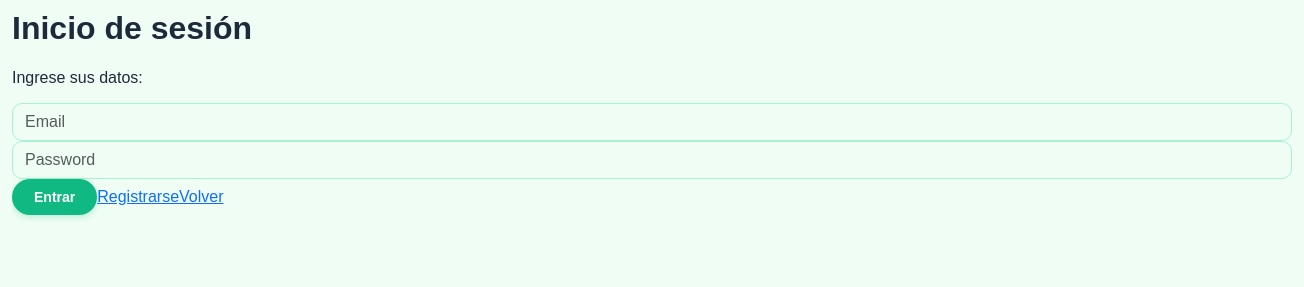
Test: FormularioLogin › con credenciales incorrectas muestra el mensaje de error
Type "otro@gmail.com" into the field with placeholder "Email".
click(652, 122); type("otro@gmail.com")  # box x1=12 y1=103 x2=1292 y2=141
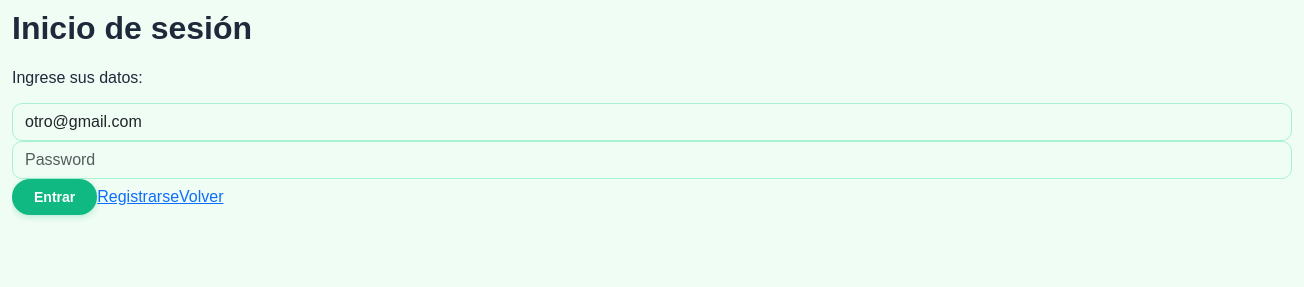
Type "mala" into the password field with placeholder "Password".
click(652, 160); type("mala")  # box x1=12 y1=141 x2=1292 y2=179
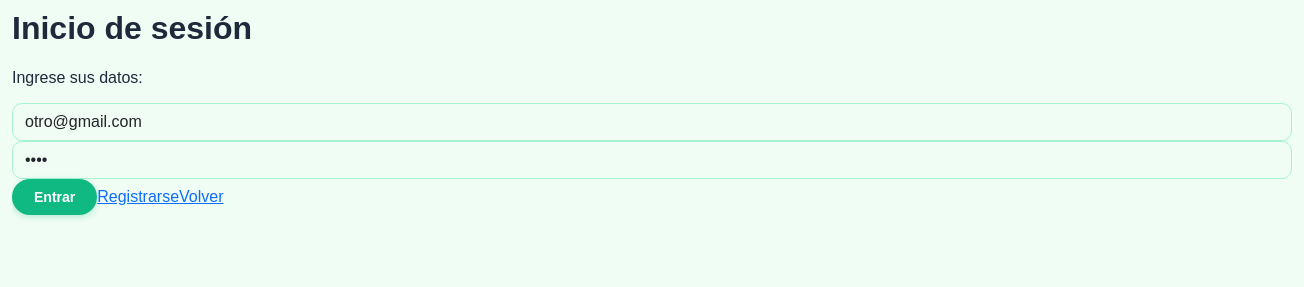
Click the button "Entrar".
click(55, 197)  # box x1=12 y1=179 x2=97 y2=215
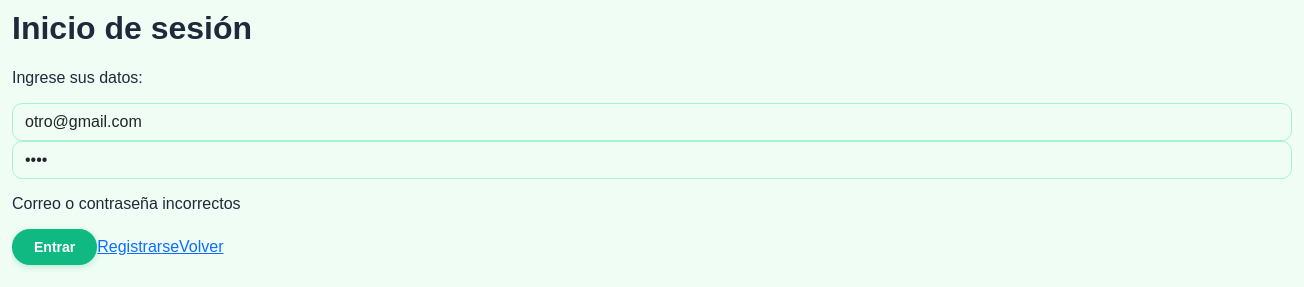
Result: the message reads "Correo o contraseña incorrectos" at x1=12 y1=195 x2=241 y2=212
